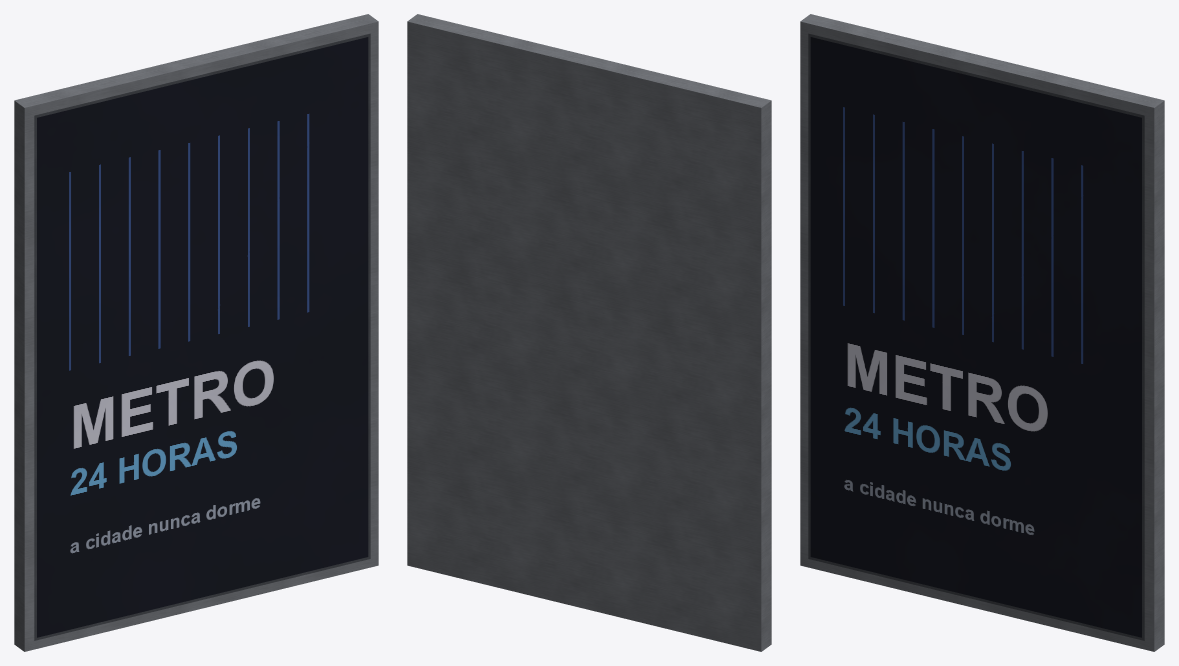
The model's file is poster_c.obj.
The picture shows the model from 3 angles, left to right: view 1: azimuth 30°, elevation 25°; view 2: azimuth 150°, elevation 25°; view 3: azimuth 330°, elevation 25°; orthographic projection.
Parts seen in each view (by area): view 1: poster_c; view 2: poster_c; view 3: poster_c.
Part boxes in pixels (x1,y1,x2,y2): poster_c: (14, 14, 378, 651); poster_c: (407, 14, 771, 651); poster_c: (800, 14, 1164, 651).
Bounding box in the file's own units: 1.39 × 2.04 × 0.076.
